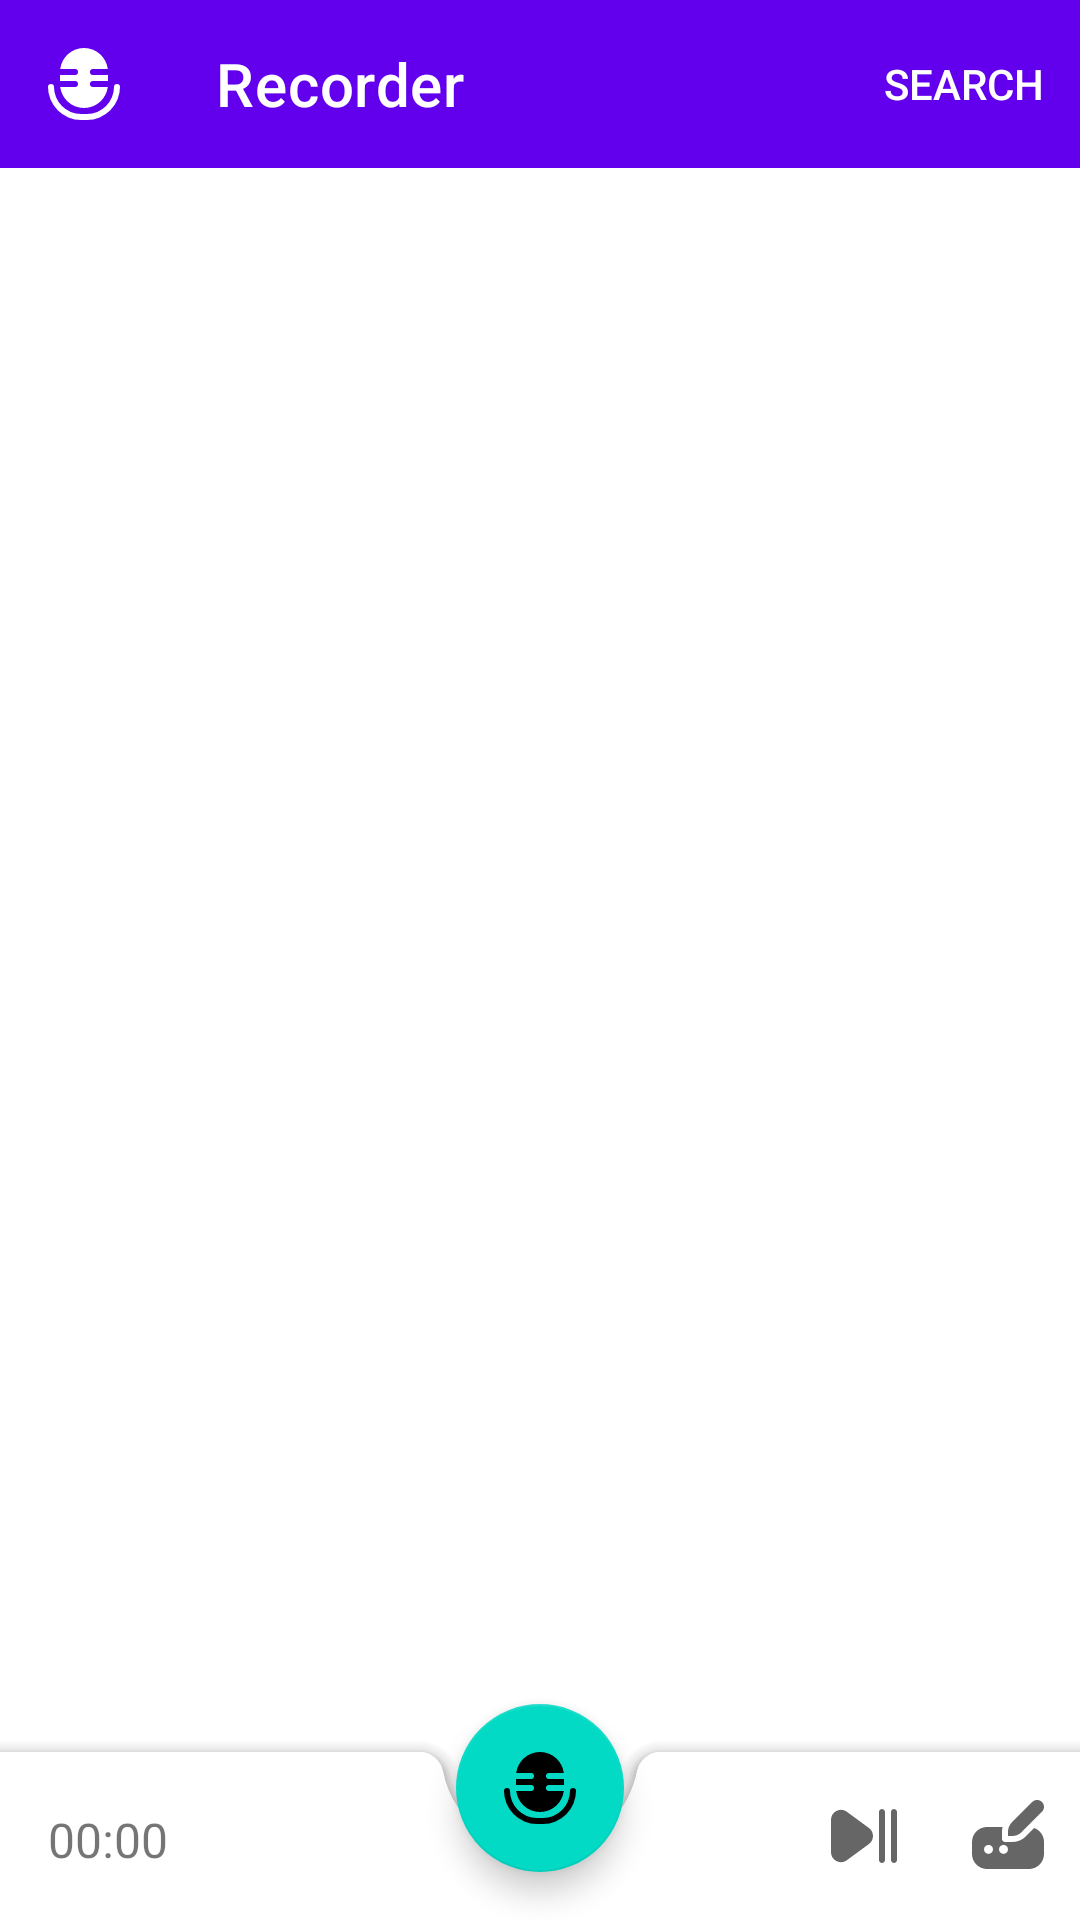

Point at icon controls on the screen. Image size 1080w x 1920h, points as point (x, y).
microphone: point (540, 1788)
